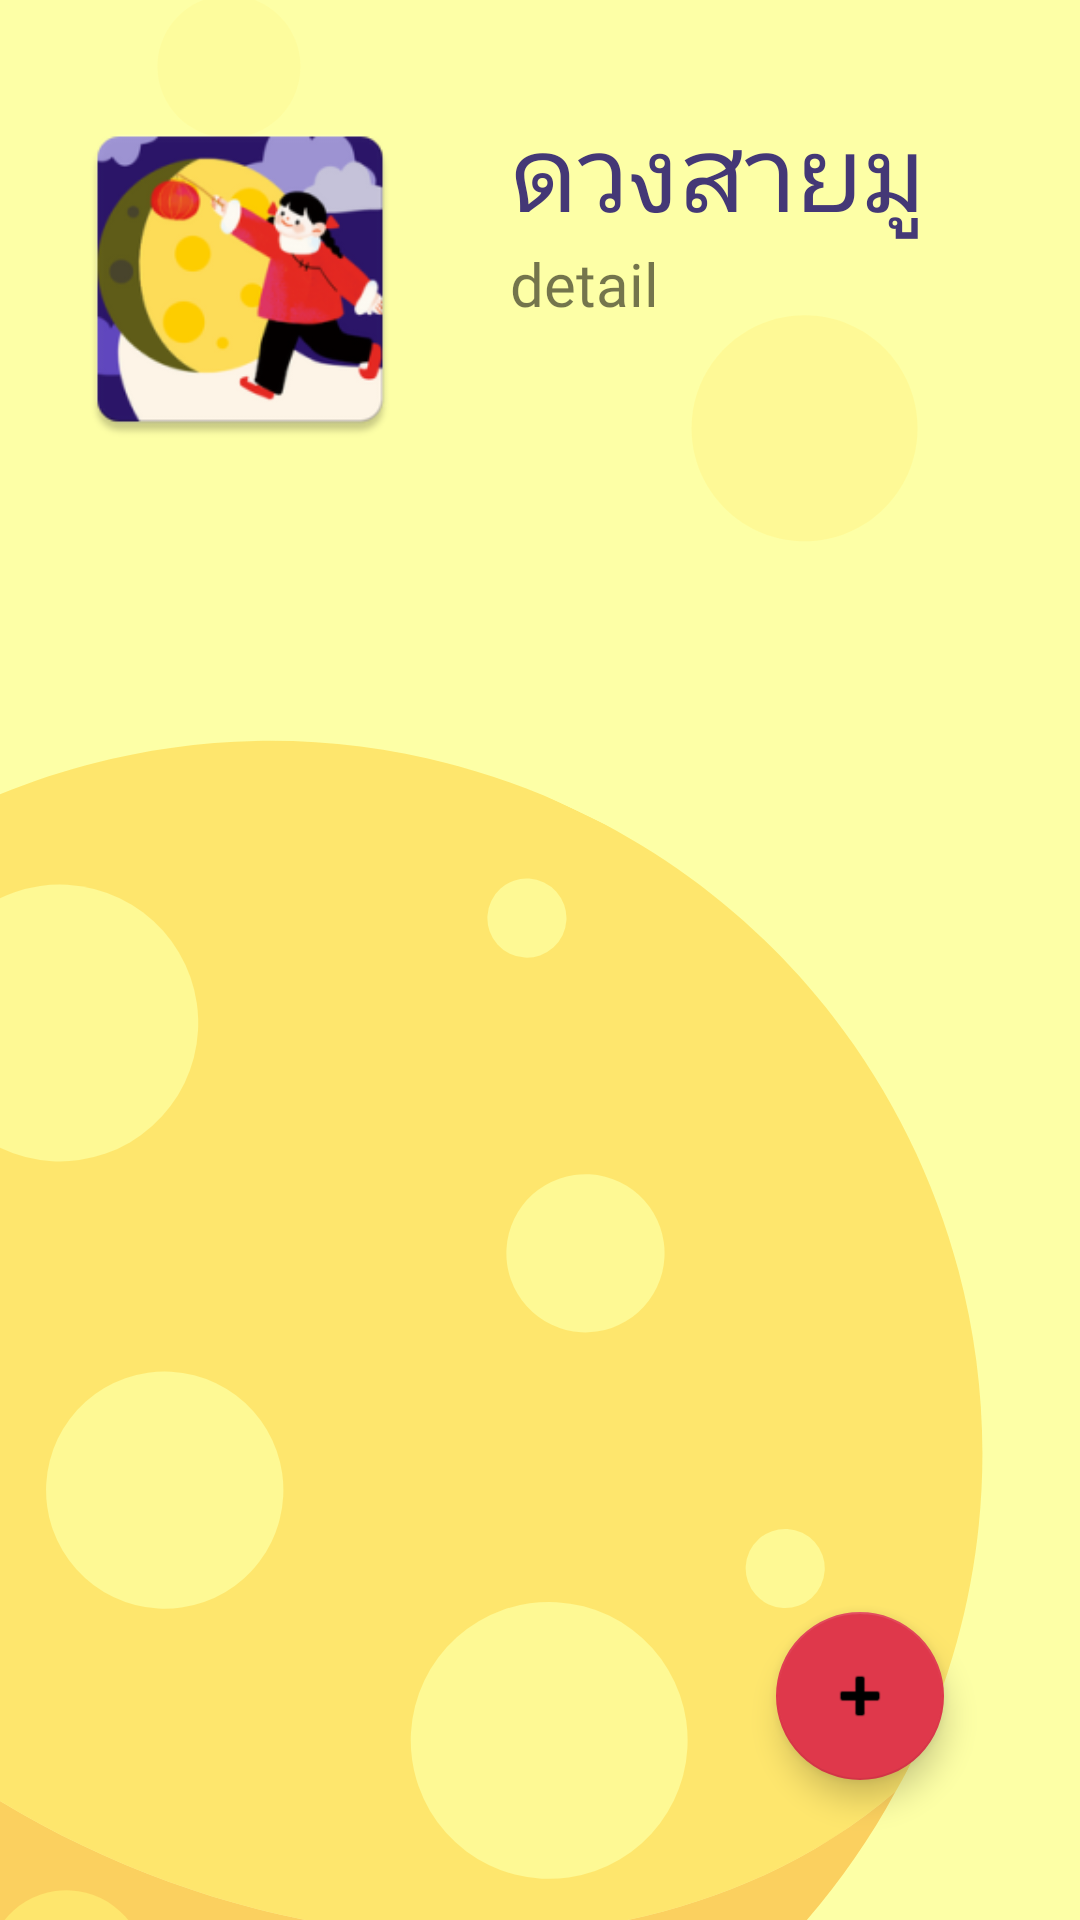

Locate icon controls on the screen. Image size 1080×1920, boxes as (x1, y1, x2, y2).
add: (776, 1612, 944, 1780)
